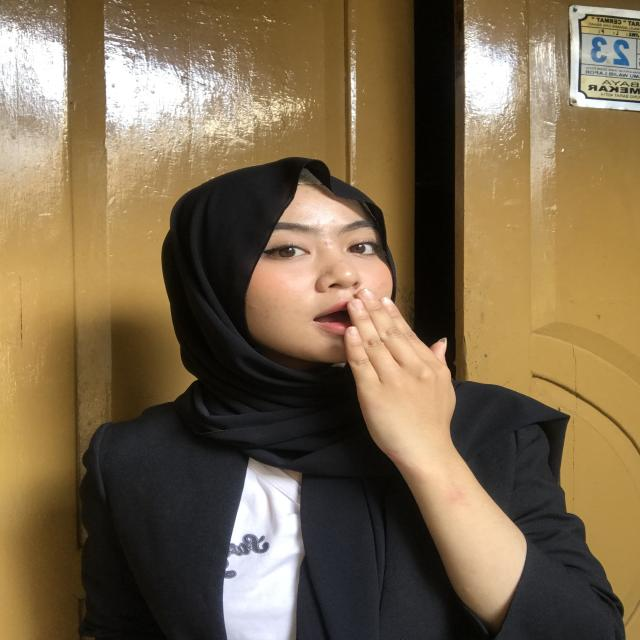ngantuk: (276, 274, 469, 476)
